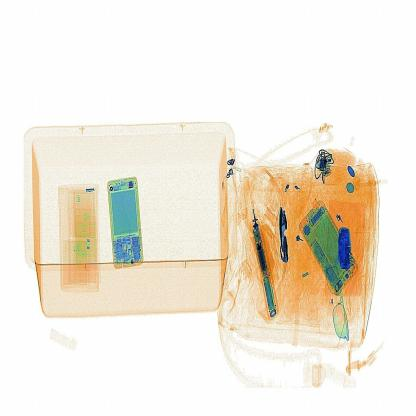scissors: (334, 221, 358, 277)
